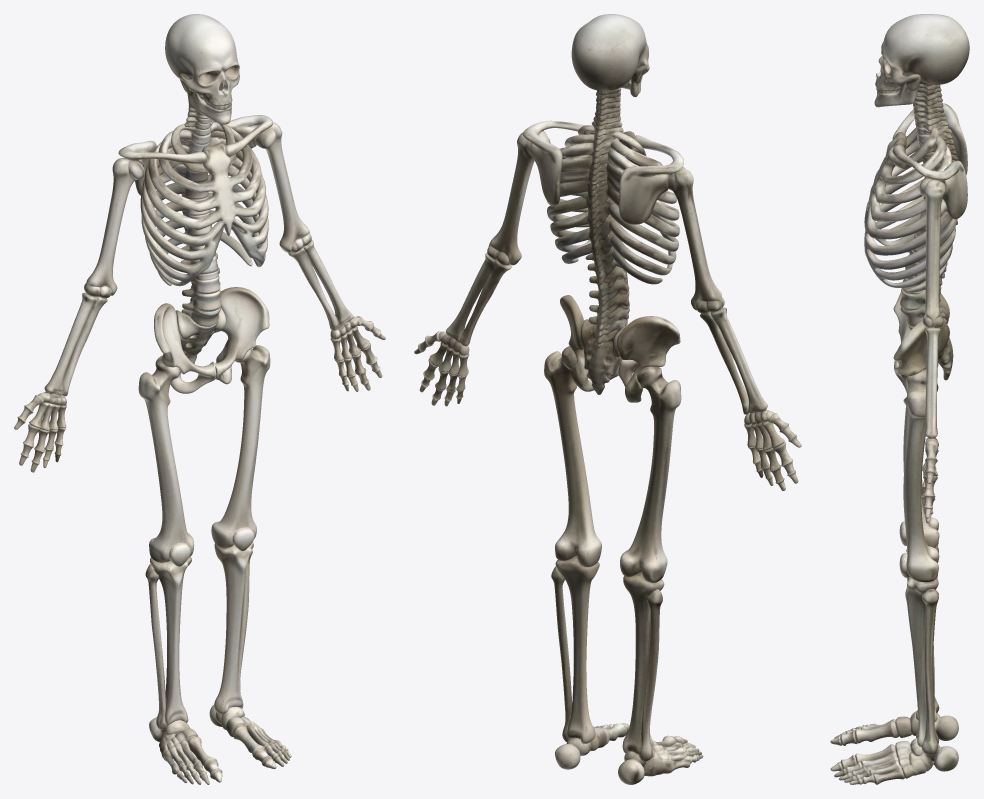
Rendered from human.glb.
The picture shows the model from 3 angles, left to right: view 1: azimuth 30°, elevation 25°; view 2: azimuth 150°, elevation 25°; view 3: azimuth 270°, elevation 25°; orthographic projection. The views are drawn at different scales.
Visible parts, largest first — view 1: mesh_uv.obj; view 2: mesh_uv.obj; view 3: mesh_uv.obj.
Boxes of the visible parts, box(x1,y1,x2,y2) form: mesh_uv.obj: box(14, 14, 385, 784); mesh_uv.obj: box(414, 14, 801, 784); mesh_uv.obj: box(830, 14, 969, 784).
Bounding box in the file's own units: 0.9654 × 1.8 × 0.3056.
Materials: 1 (1 with a texture image).
